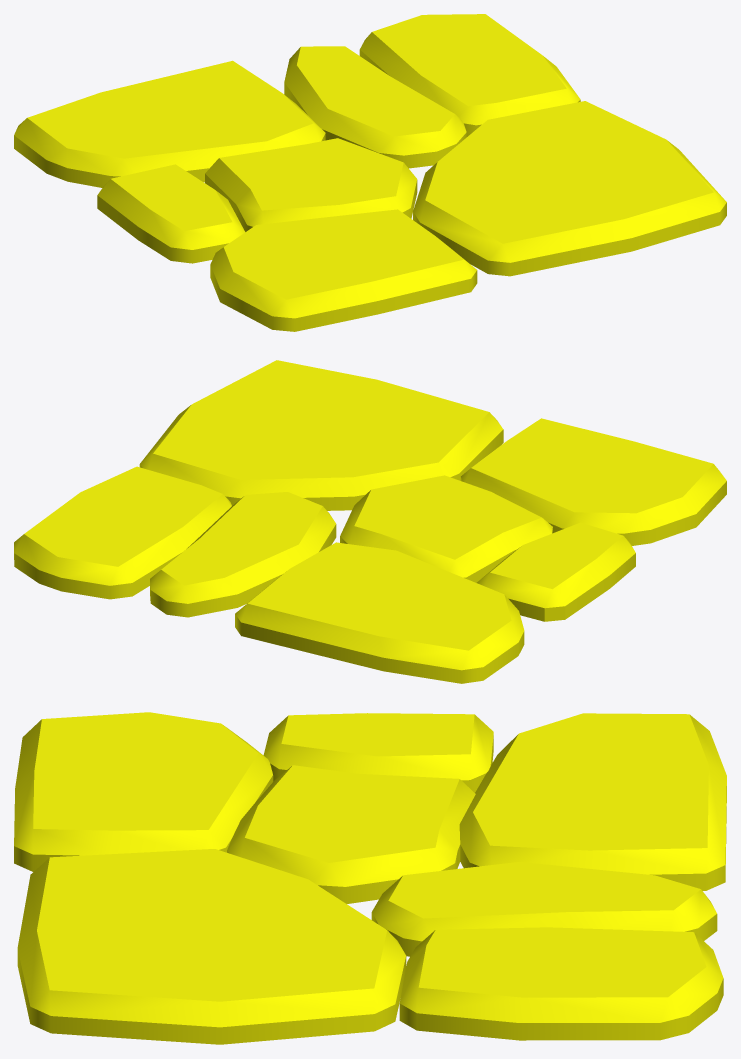
The model's file is kaykit-path-b.glb.
The picture shows the model from 3 angles, top to bottom: view 1: azimuth 30°, elevation 25°; view 2: azimuth 150°, elevation 25°; view 3: azimuth 270°, elevation 25°; orthographic projection. The views are drawn at different scales.
Visible parts, largest first — view 1: path_B; view 2: path_B; view 3: path_B.
Part boxes in pixels (x1,y1,x2,y2): path_B: (14, 14, 726, 331); path_B: (14, 360, 726, 683); path_B: (14, 712, 726, 1044).
Size of the model in its own units: 1.89 by 0.0999 by 1.86.
